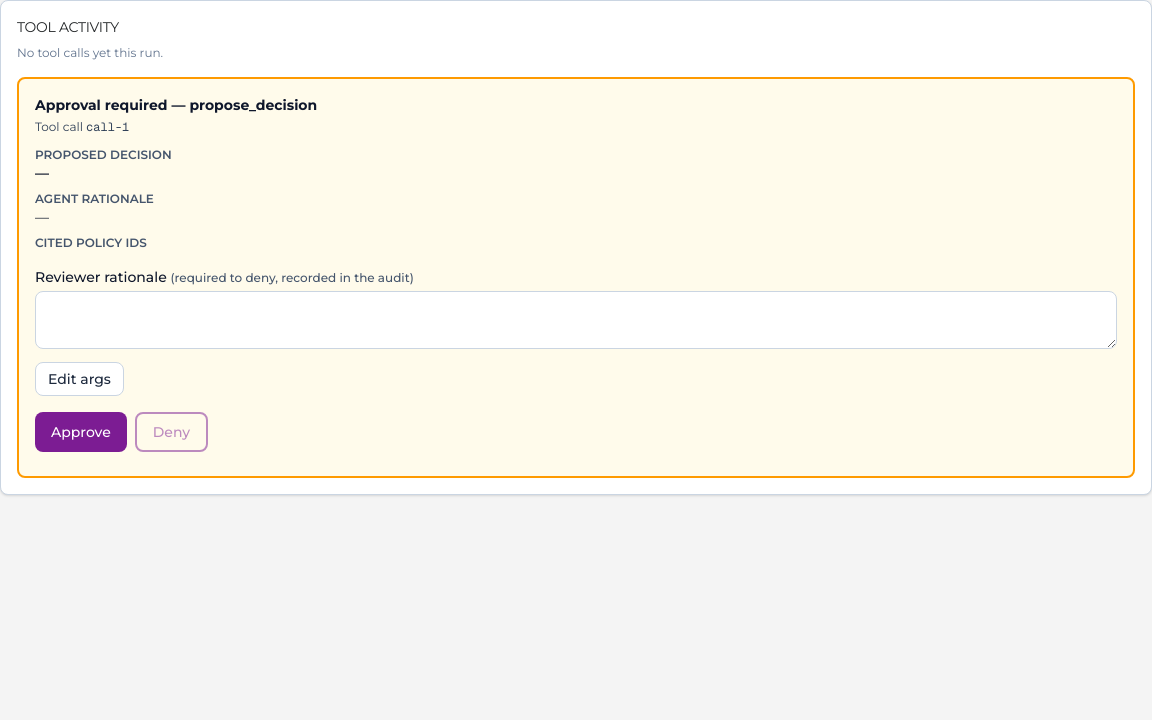
Scenario: ApprovalCard (interrupt card) › announces the outcome via an aria-live region after approving
Click the button "Approve" at (81, 432), box [35, 412, 127, 452]
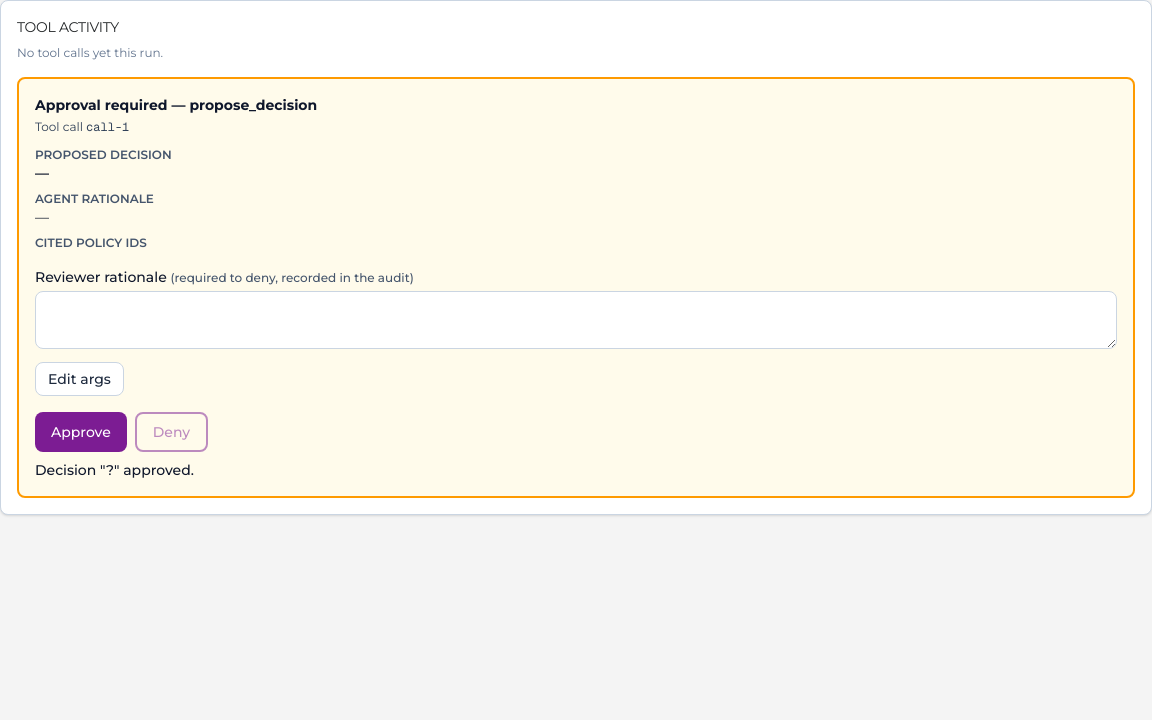
Expected: the text "Decision \"?\" approved." is shown, [35, 461, 194, 479]
